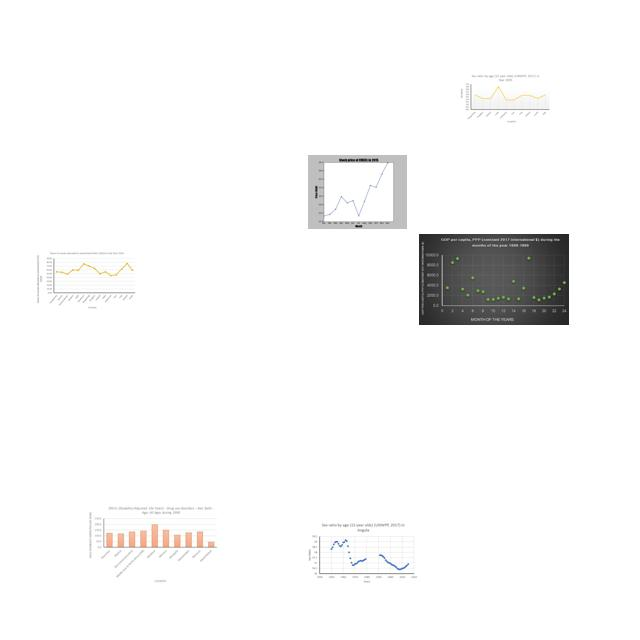Graph: (419, 234, 569, 325), (87, 505, 219, 584), (308, 155, 407, 229), (306, 522, 418, 585), (35, 250, 136, 310), (460, 72, 551, 125)
